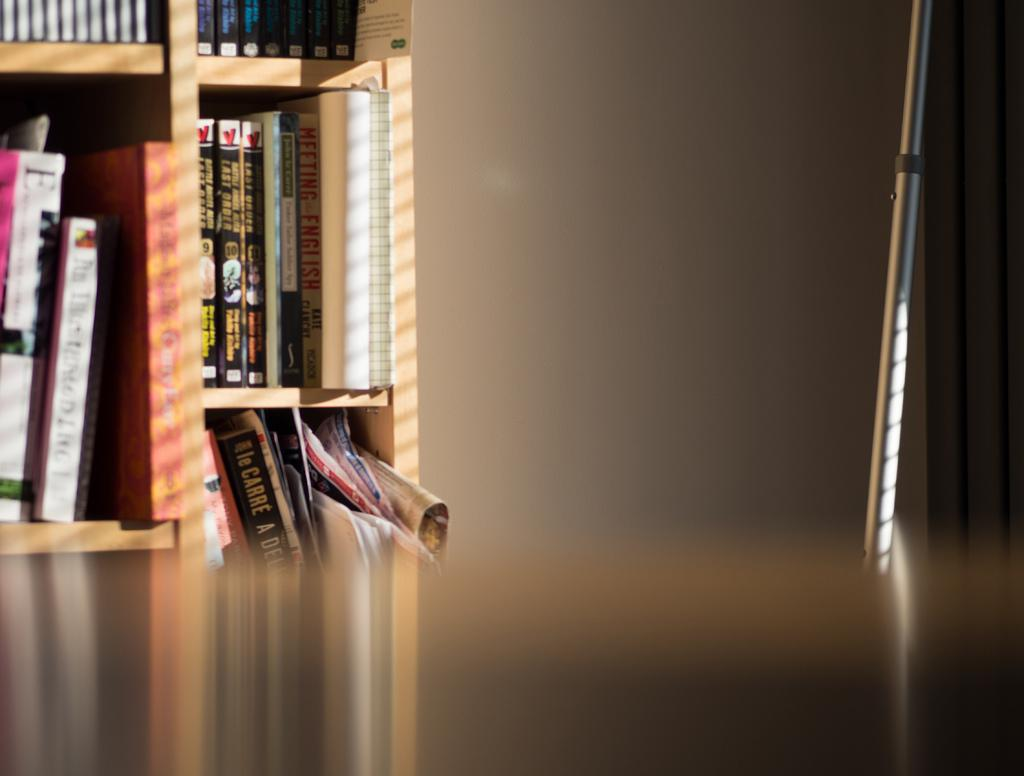Book: (69, 140, 185, 521), (33, 213, 119, 522)
